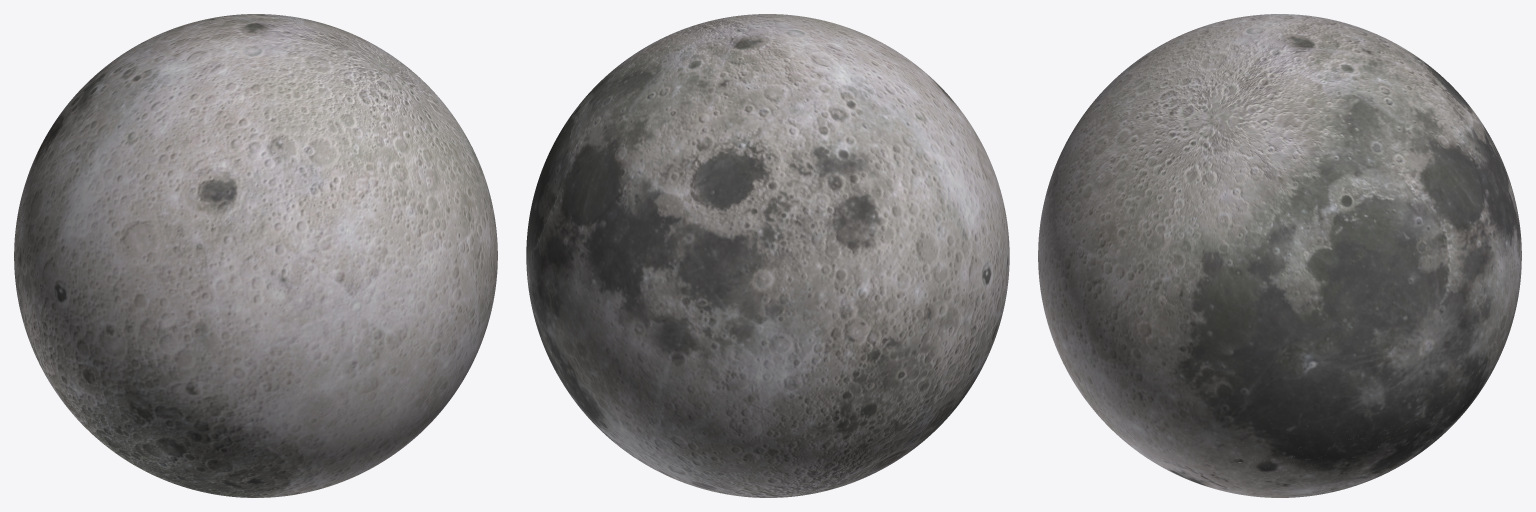
File: moon.glb
3 renders of one model, left to right at view 1: azimuth 30°, elevation 25°; view 2: azimuth 150°, elevation 25°; view 3: azimuth 270°, elevation 25°, orthographic.
Parts seen in each view (by area): view 1: Sphere; view 2: Sphere; view 3: Sphere.
Boxes of the visible parts, x1,y1,x2,y2 form: Sphere: [14, 14, 497, 497]; Sphere: [526, 14, 1009, 497]; Sphere: [1038, 14, 1521, 497].
Bounding box in the file's own units: 2 × 2 × 2.
Materials: 1 (1 with a texture image).
